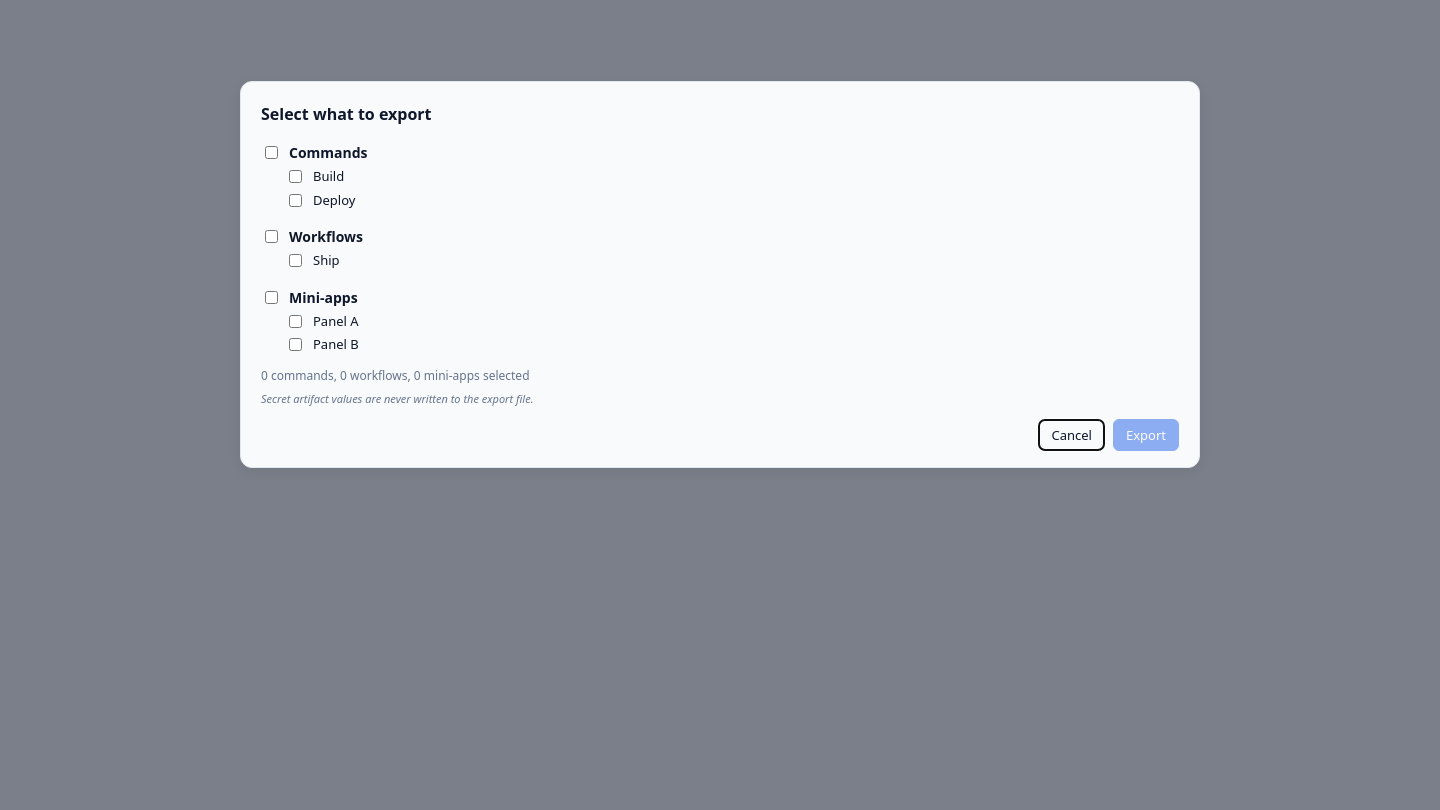
Test case: ExportDialog › renders a workflow-required command as checked + disabled
Note: Select the workflow that depends on c1 ("Build").
What coordinates should you click on to do the following:
click the checkbox labelled "Ship"
I would click on:
 (296, 261)
Its box is [289, 254, 302, 267].
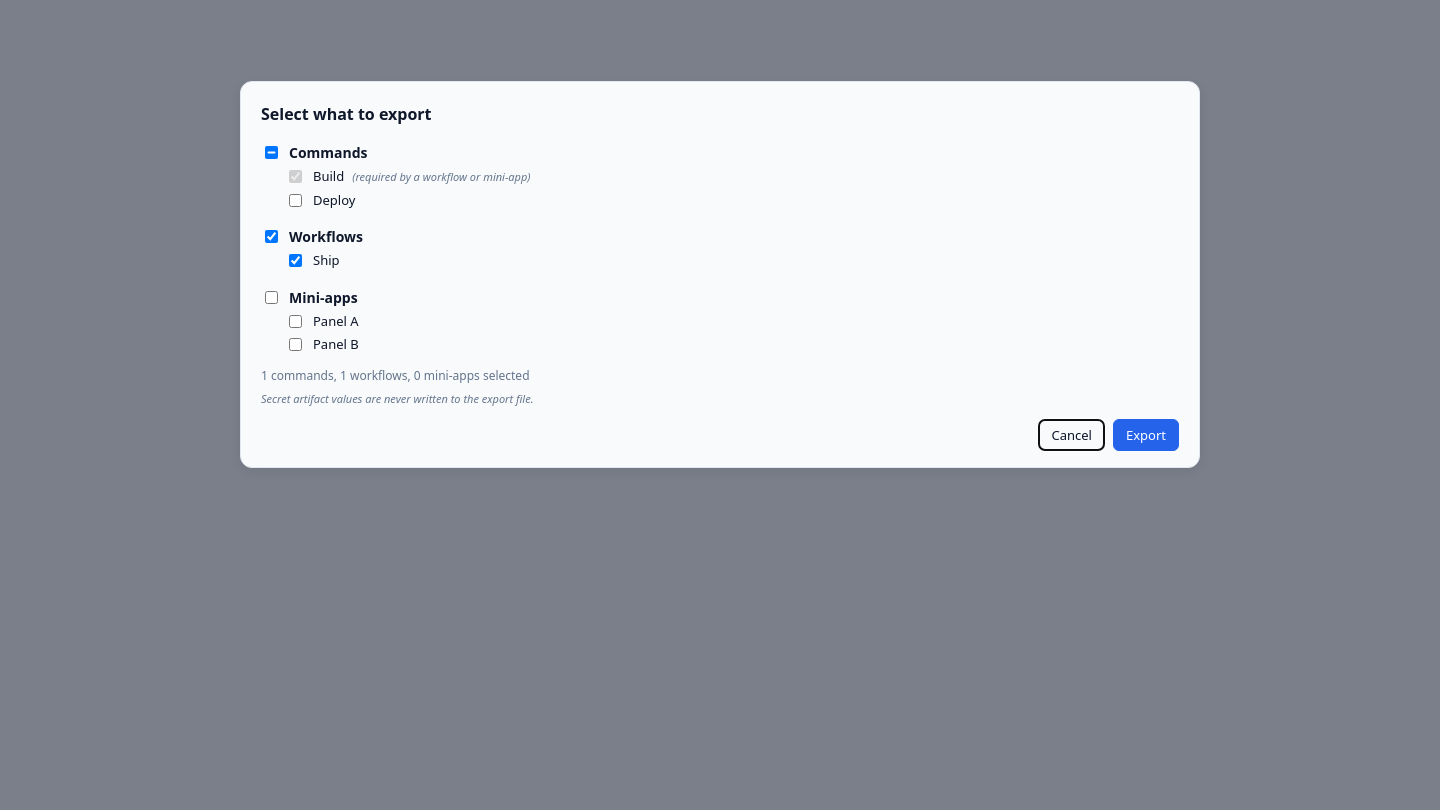
Expected: the checkbox labelled "Deploy" is not checked, [289, 194, 302, 207]
Now the checkbox labelled "Build (required by a workflow or mini-app)" is checked, box [289, 170, 302, 183]
Now the checkbox labelled "Build (required by a workflow or mini-app)" is disabled, box [289, 170, 302, 183]
